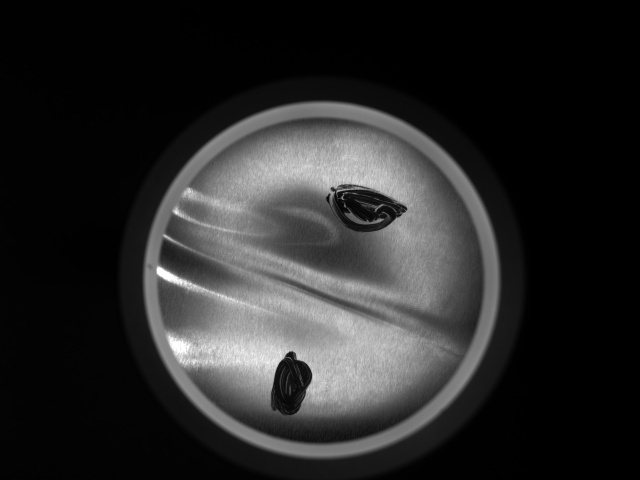zang_wu: (323, 183, 409, 233), (270, 349, 314, 415)
zhe_zhou: (201, 149, 438, 415)
